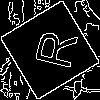R: (25, 25, 78, 72)
